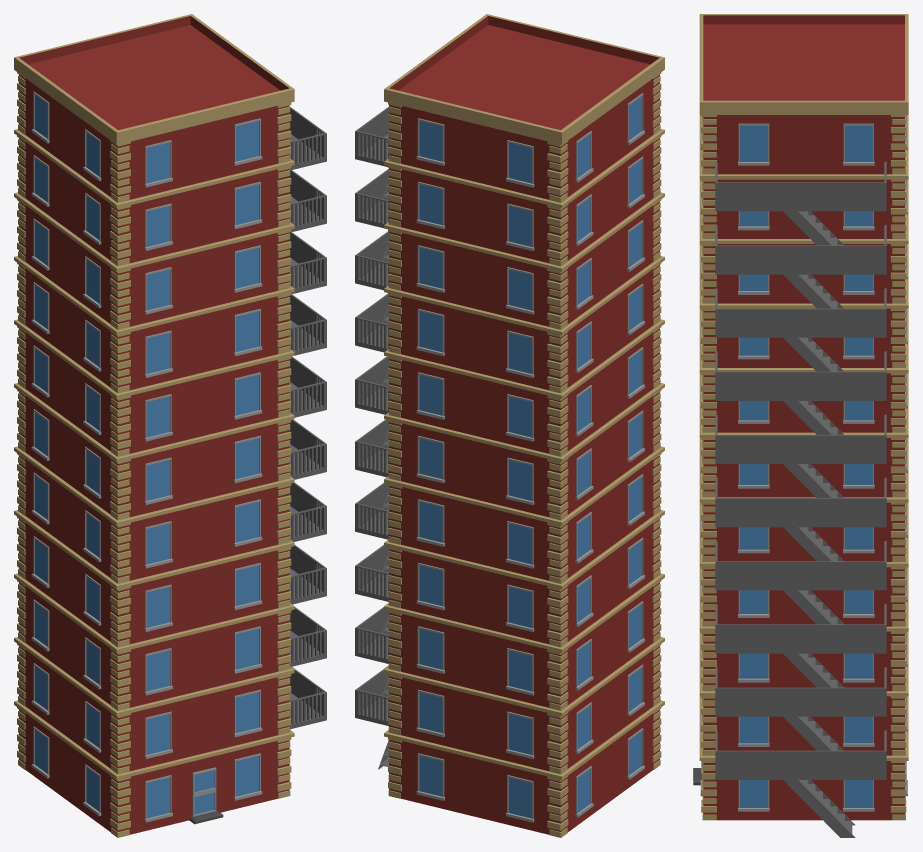
File: GebouwRoodHoog.fbx
3 renders of one model, left to right at view 1: azimuth 30°, elevation 25°; view 2: azimuth 150°, elevation 25°; view 3: azimuth 270°, elevation 25°, orthographic.
Visible parts, largest first — view 1: gebouwRoodHoog; view 2: gebouwRoodHoog; view 3: gebouwRoodHoog.
Boxes of the visible parts, left/top/right/bottom form: gebouwRoodHoog: left=14, top=14, right=326, bottom=837; gebouwRoodHoog: left=355, top=14, right=664, bottom=837; gebouwRoodHoog: left=693, top=14, right=908, bottom=837.
Bounding box in the file's own units: 762 × 2364 × 642.
